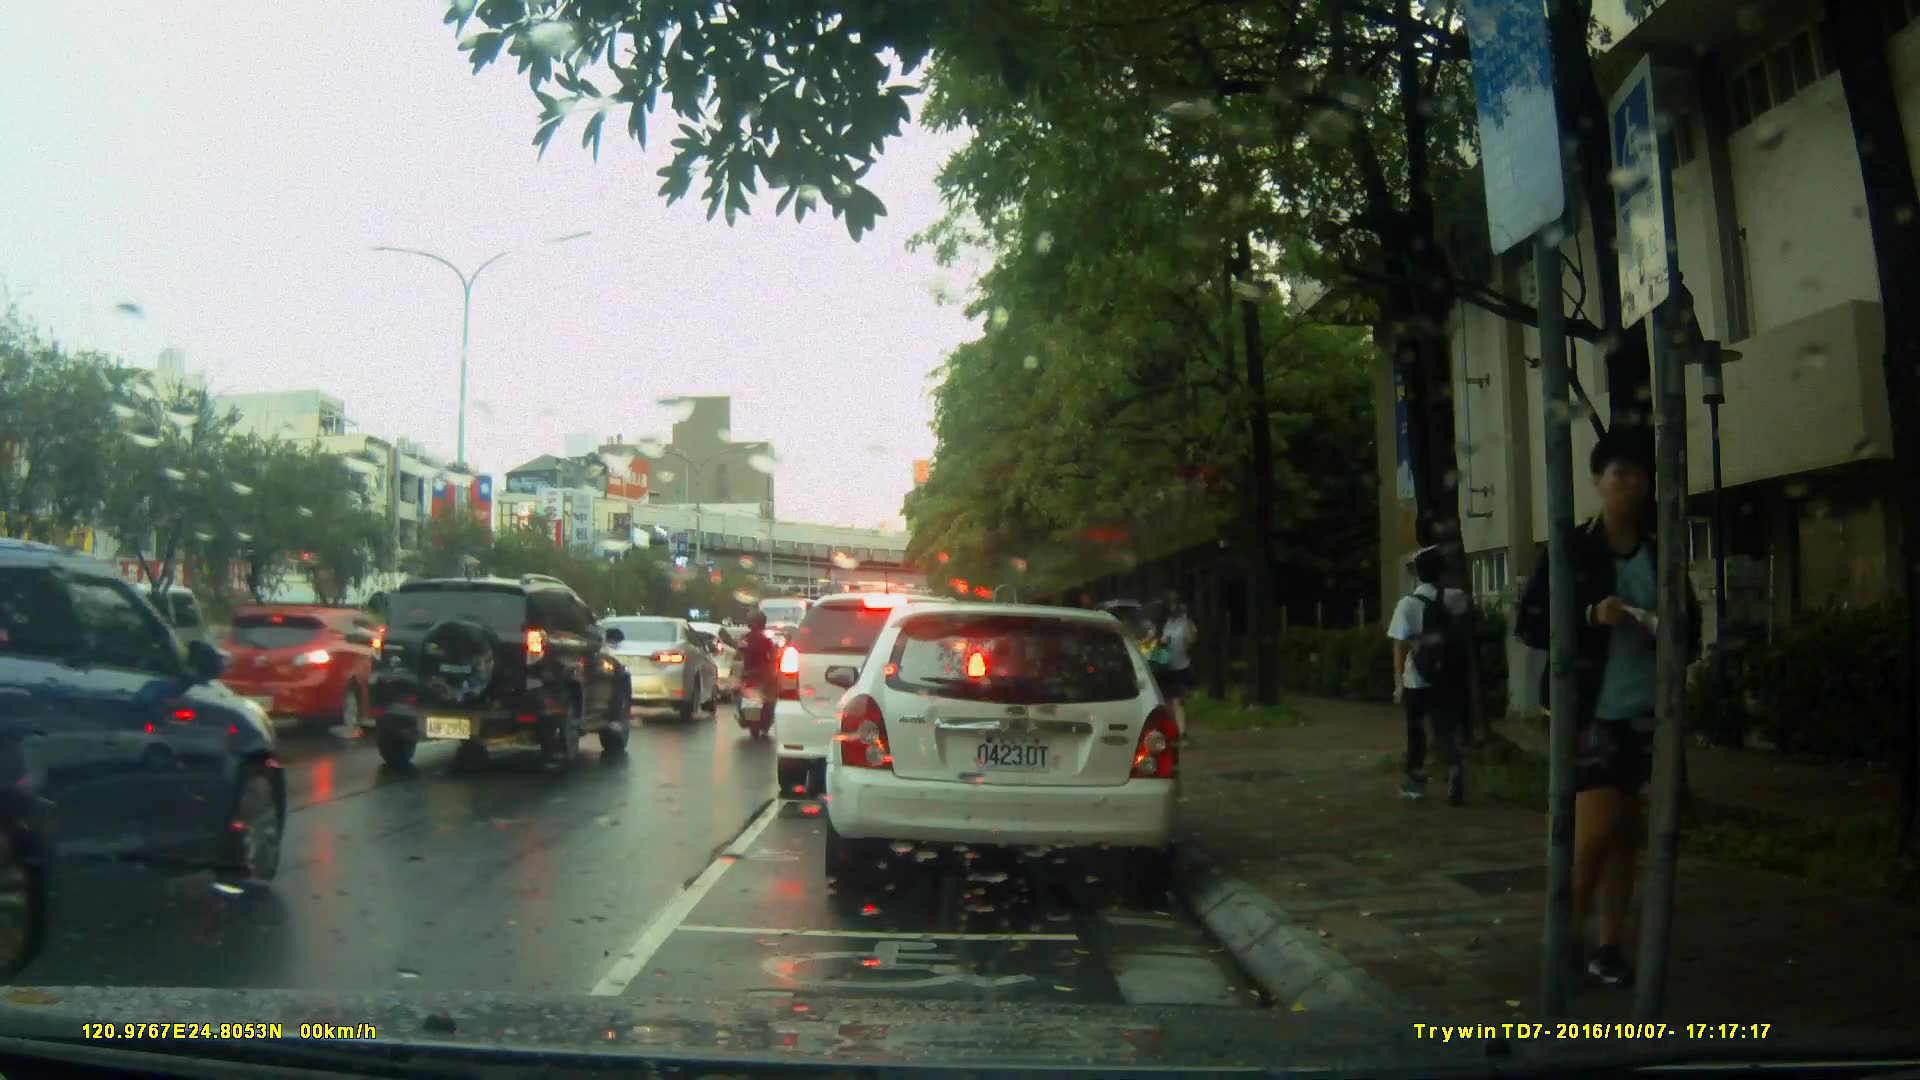pedestrian: (1553, 428, 1708, 975), (1374, 529, 1494, 811), (1144, 584, 1201, 735)
rider: (726, 605, 783, 742)
vehicle: (815, 593, 1202, 902), (2, 539, 294, 934), (359, 571, 636, 777), (771, 590, 995, 802), (205, 606, 423, 738), (557, 613, 713, 730)
